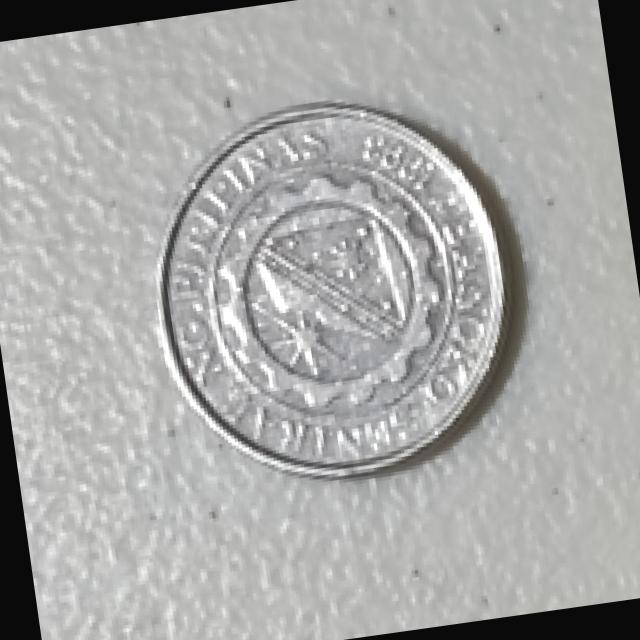1_peso: (156, 104, 504, 475)
